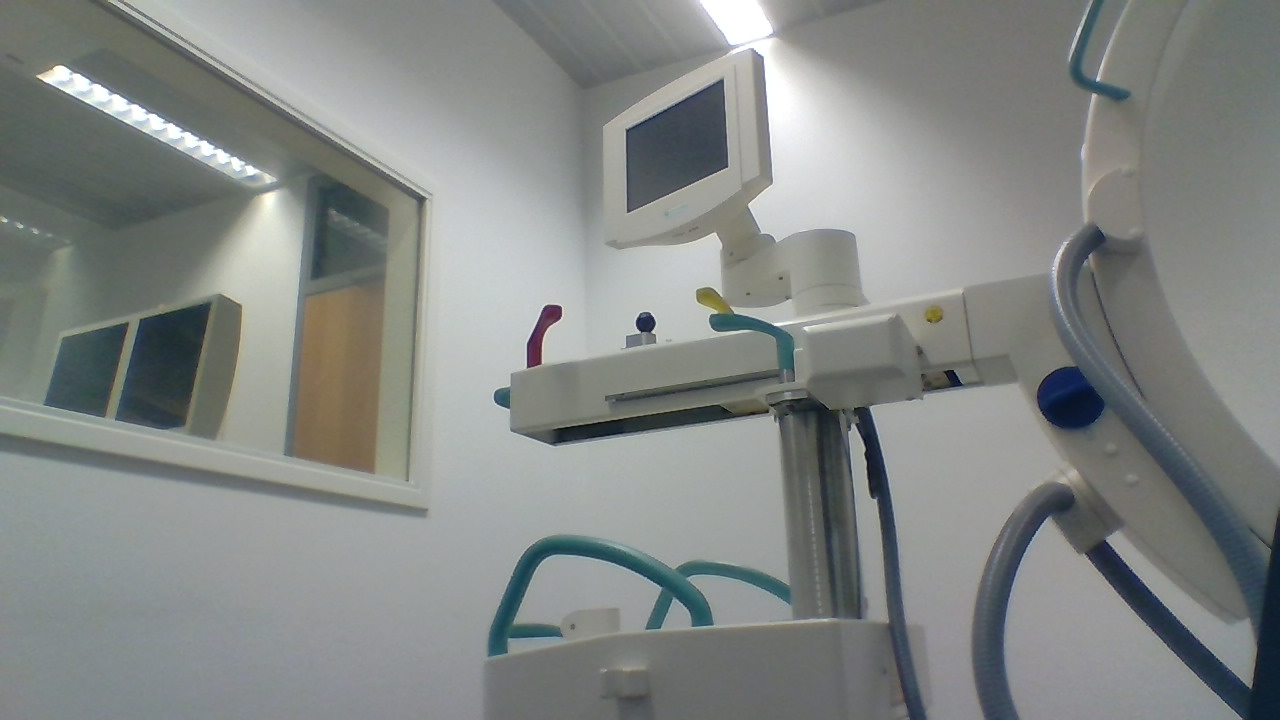carmBACK: (489, 607, 622, 643)
carmLOCK: (1037, 364, 1106, 428)
carmSCREEN: (598, 48, 775, 247)
